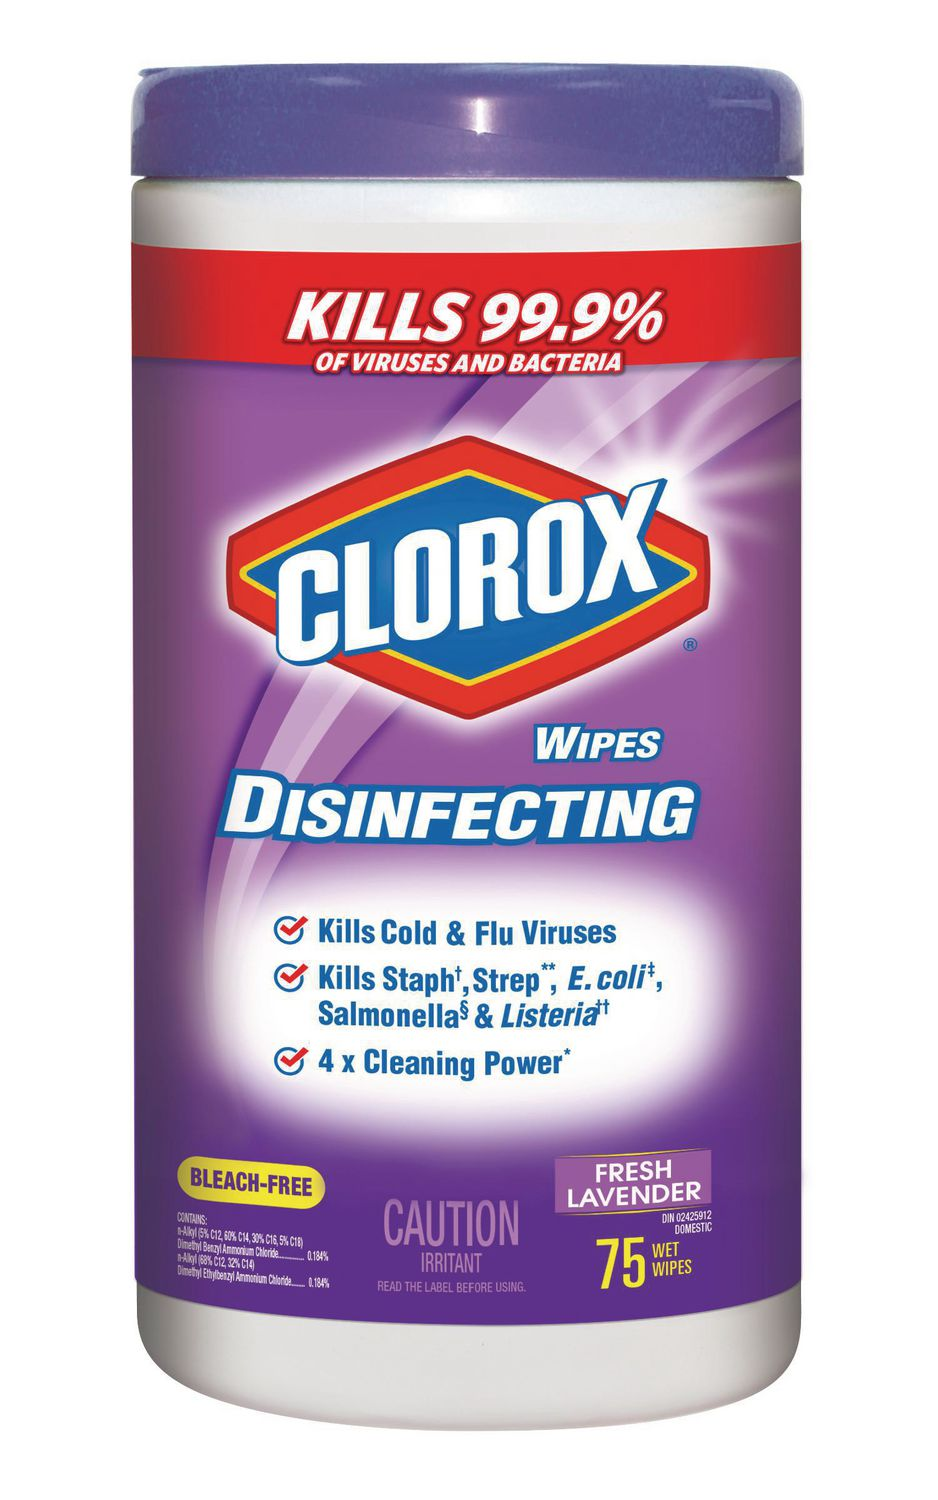Wipes: (113, 53, 820, 1441)
